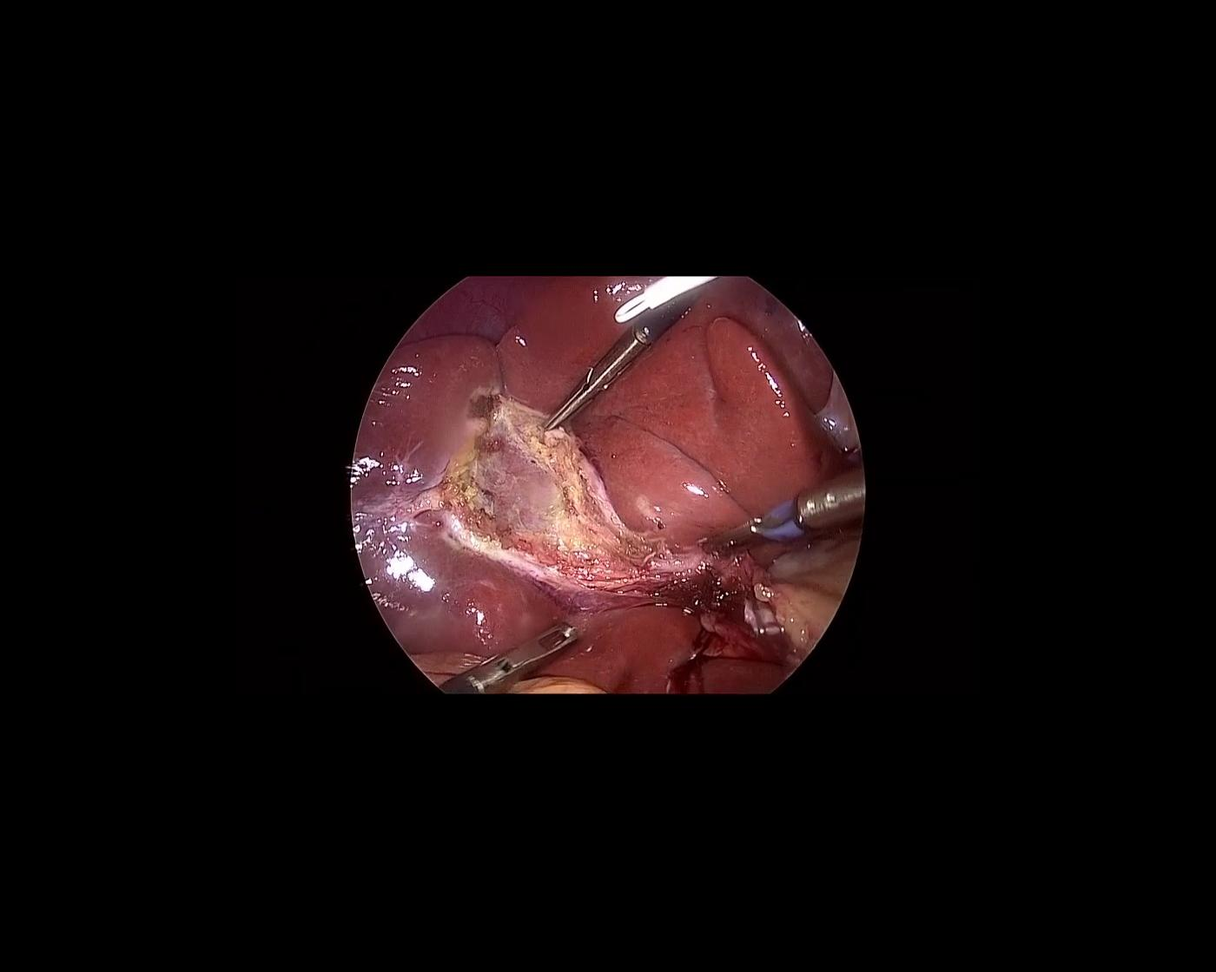Forceps: (532, 257, 719, 441), (700, 467, 878, 564), (439, 605, 586, 721)
Liver: (354, 276, 861, 695)
